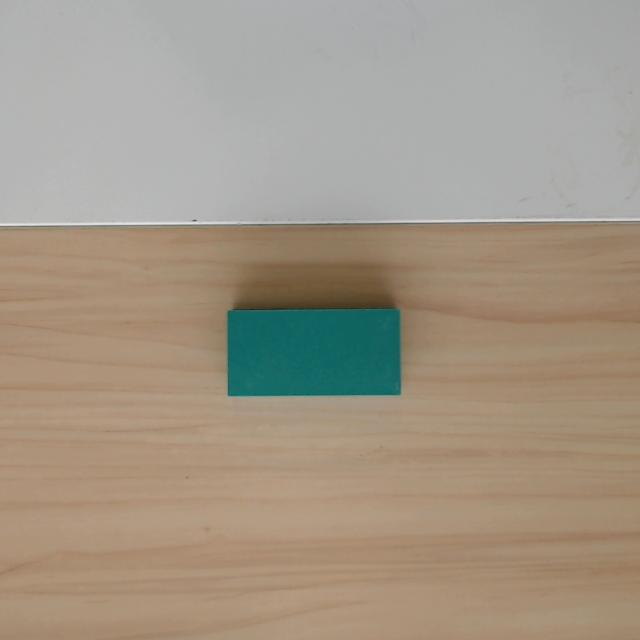Balok-Hijau-1005025: (226, 308, 401, 397)
